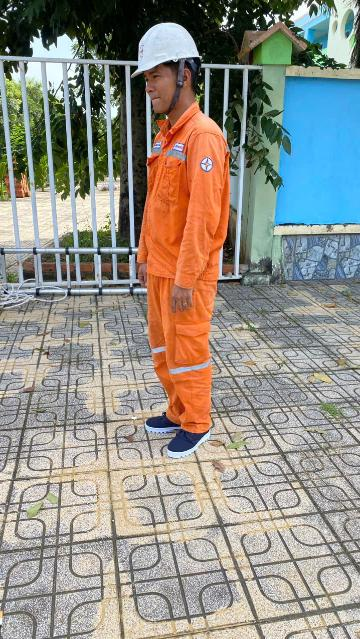helmet: (130, 9, 214, 84)
shoes: (156, 410, 218, 464), (138, 405, 184, 436)
